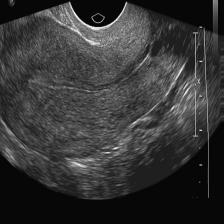no-pcos: (1, 32, 191, 175)
